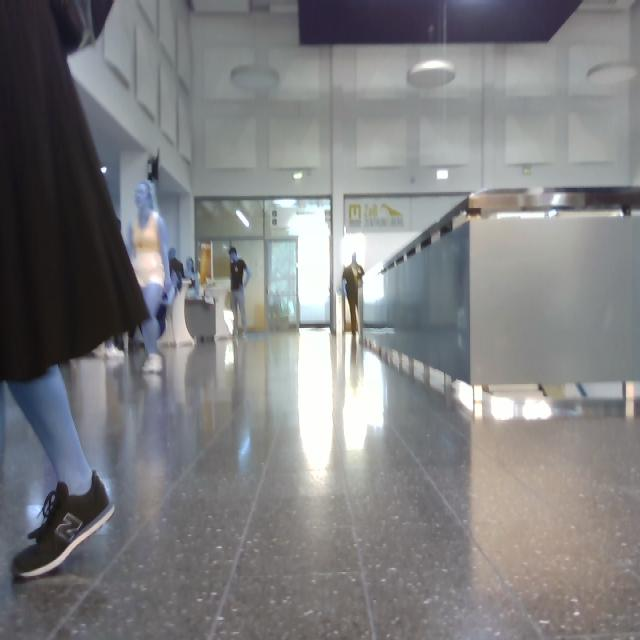door: (198, 200, 331, 330), (300, 2, 582, 46)
light bulb: (408, 58, 455, 89), (231, 66, 279, 92), (587, 62, 638, 86), (438, 1, 446, 53), (238, 209, 250, 228), (102, 166, 107, 174)
person: (1, 1, 149, 576), (127, 181, 171, 373), (231, 248, 251, 332)
staircase: (365, 189, 640, 398), (300, 2, 582, 46)
tiled floor: (1, 332, 640, 640)
